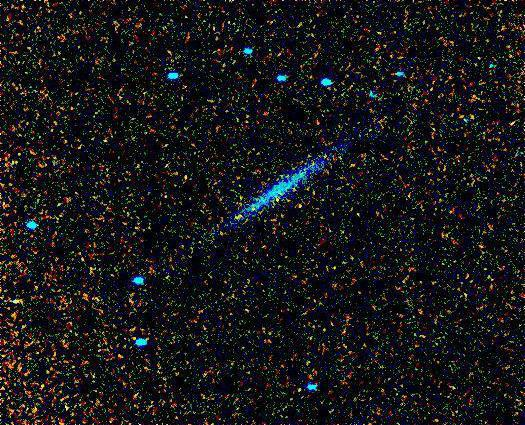star: (225, 202, 255, 232)
